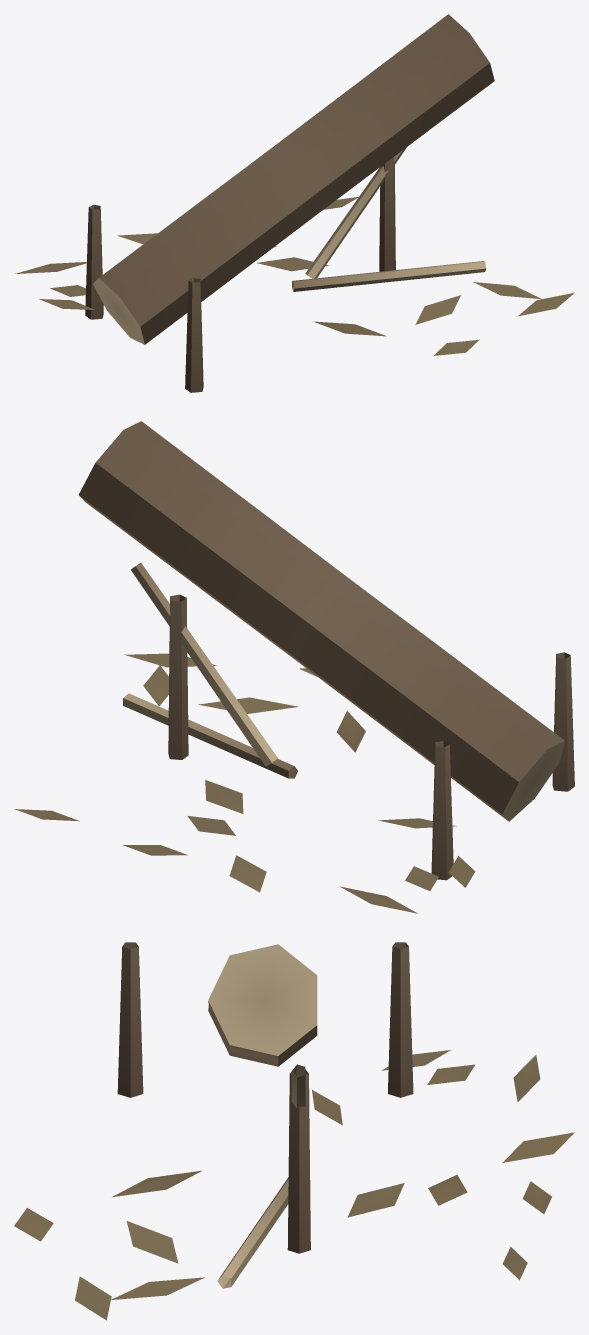
Rendered from log_deadfall_a.glb.
3 views of the same model, one above another, from view 1: azimuth 30°, elevation 25°; view 2: azimuth 150°, elevation 25°; view 3: azimuth 270°, elevation 25° (orthographic). The views are drawn at different scales.
Visible parts, largest first — view 1: Weight, Frame; view 2: Weight, Frame; view 3: Frame, Weight.
Part boxes in pixels (left/top/right/bottom): Weight: left=93, top=14, right=494, bottom=344; Frame: left=15, top=147, right=574, bottom=392; Weight: left=78, top=421, right=564, bottom=821; Frame: left=14, top=563, right=574, bottom=913; Frame: left=14, top=942, right=574, bottom=1320; Weight: left=208, top=944, right=317, bottom=1066.
Size of the model in its own units: 0.9547 by 0.574 by 0.8307.
